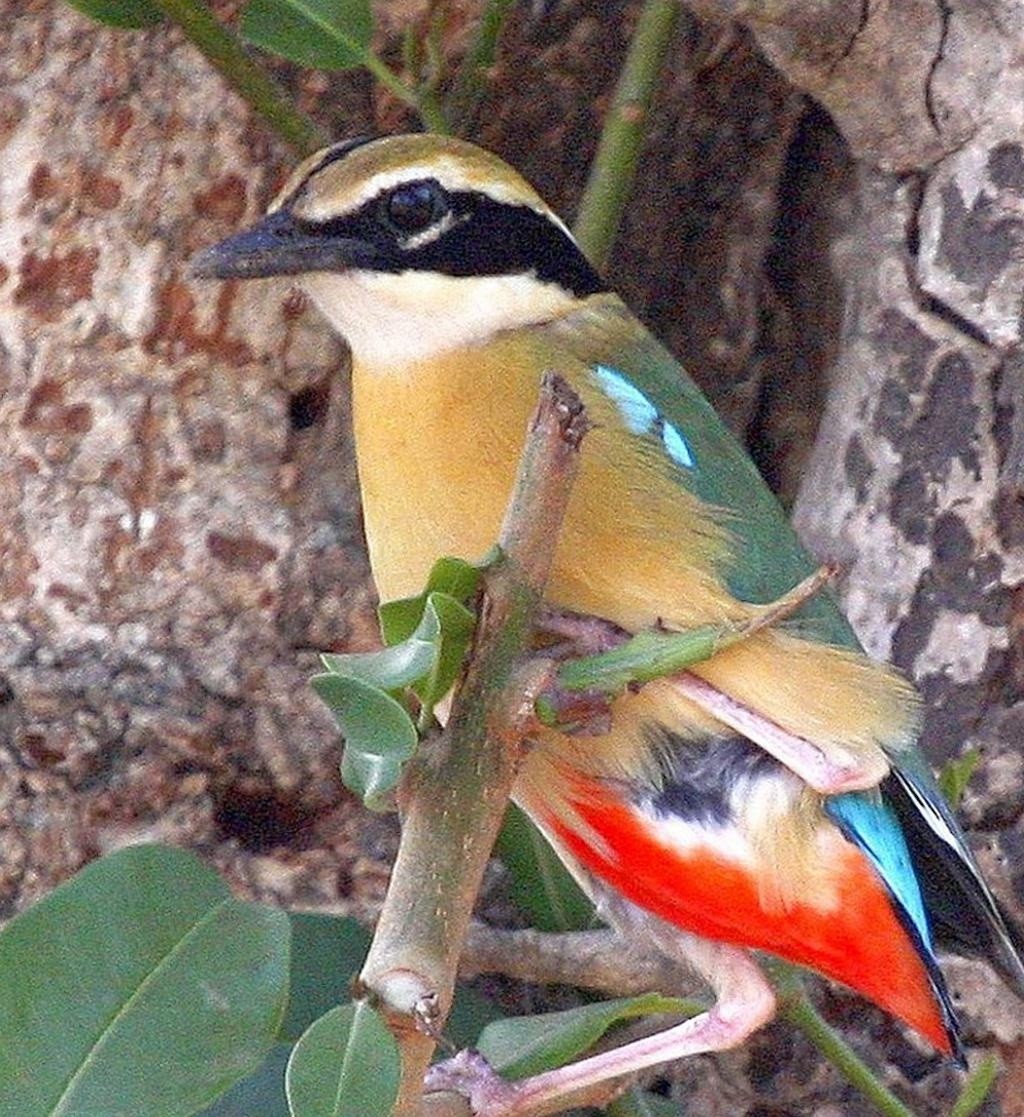pitta: (199, 72, 956, 1027)
